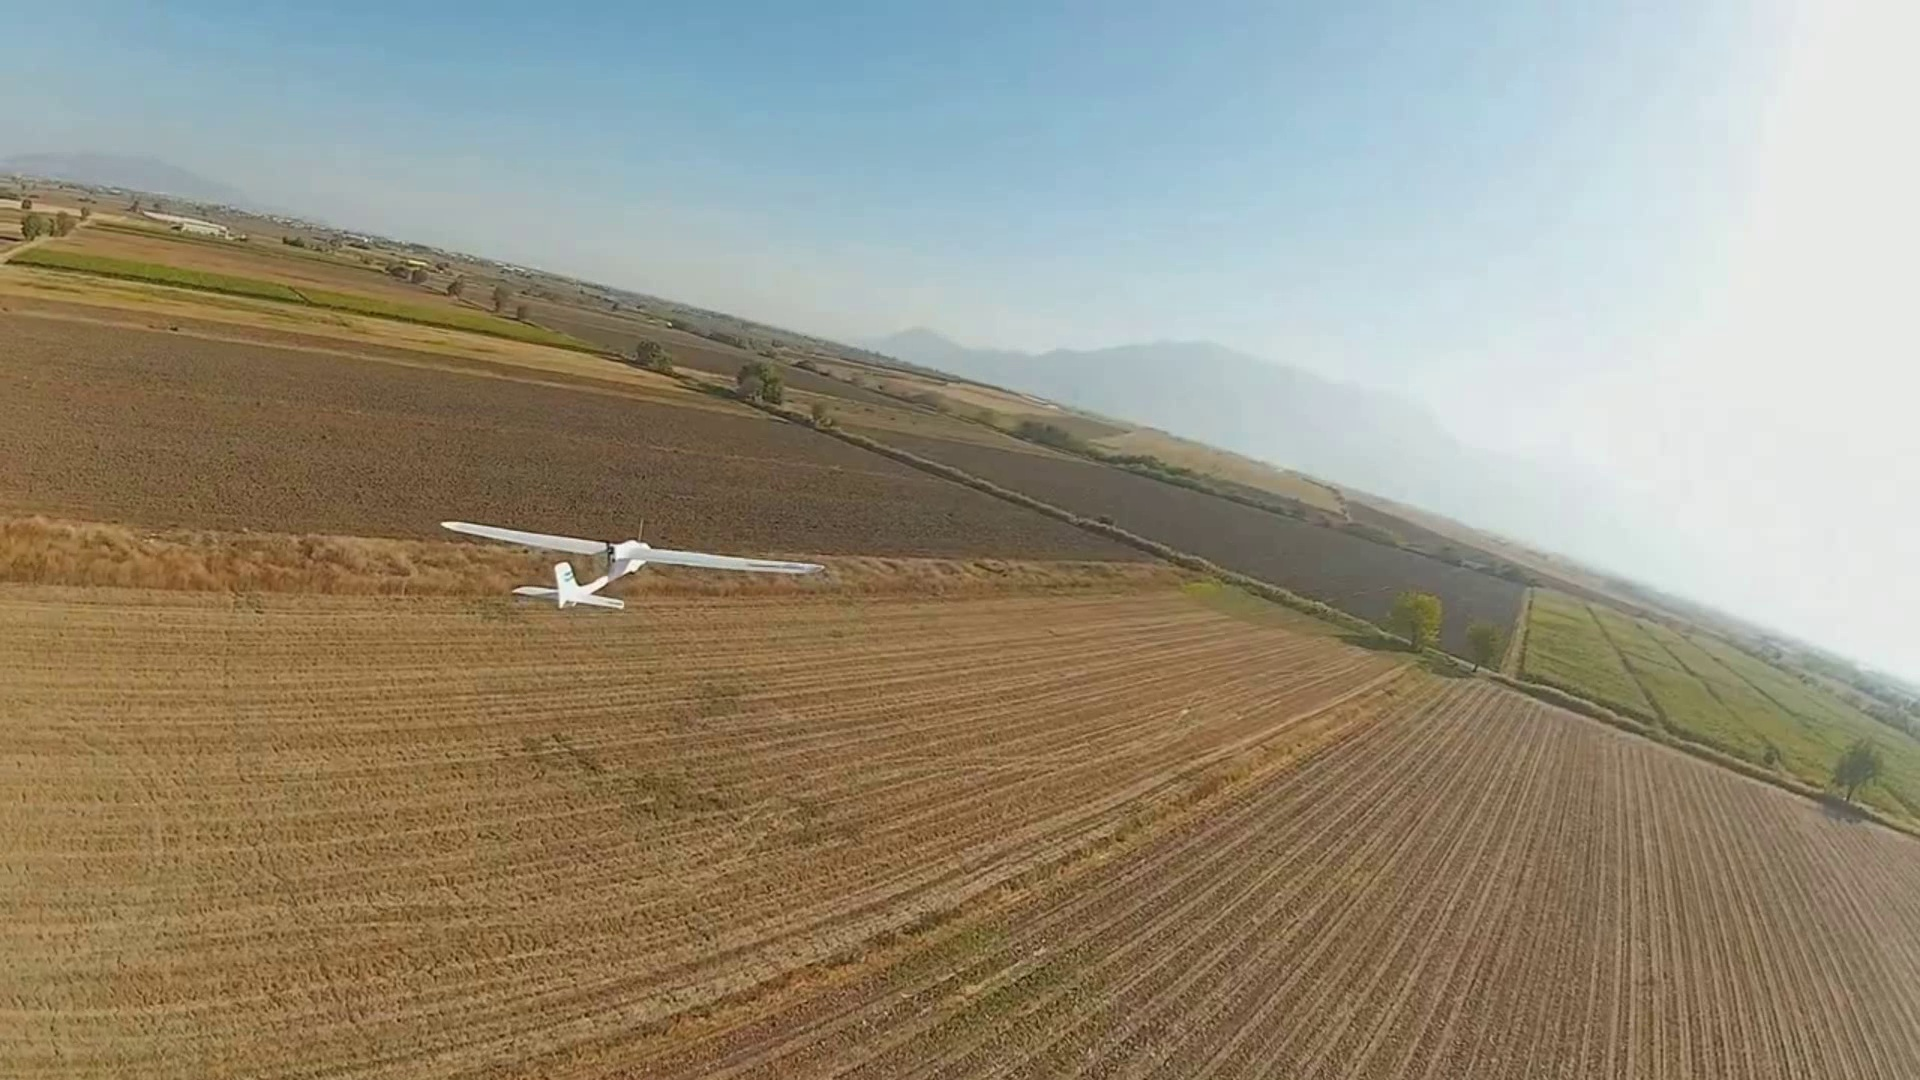airplane: (439, 514, 829, 608)
